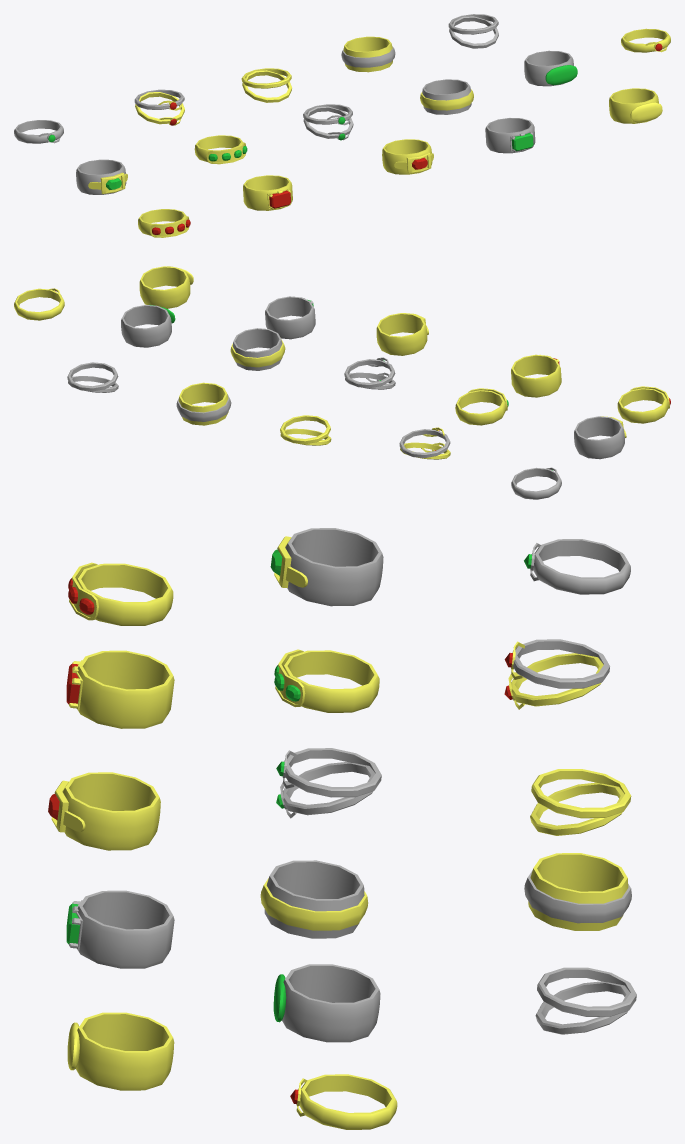
The model's file is Rings_4.fbx.
3 renders of one model, top to bottom at view 1: azimuth 30°, elevation 25°; view 2: azimuth 150°, elevation 25°; view 3: azimuth 270°, elevation 25°, orthographic. The views are drawn at different scales.
Visible parts, largest first — view 1: SM_Ring_1_1, SM_Ring_14_1, SM_Ring_9_1, SM_Ring_5_1, SM_Ring_4_1, SM_Ring_13_1, SM_Ring_2_1, SM_Ring_11_1, SM_Ring_6_1, SM_Ring_15_1, SM_Ring_8_1, SM_Ring_17_1 (+4 smaller); view 2: SM_Ring_9_1, SM_Ring_4_1, SM_Ring_14_1, SM_Ring_13_1, SM_Ring_5_1, SM_Ring_1_1, SM_Ring_2_1, SM_Ring_11_1, SM_Ring_6_1, SM_Ring_15_1, SM_Ring_8_1, SM_Ring_17_1 (+4 smaller); view 3: SM_Ring_4_1, SM_Ring_13_1, SM_Ring_11_1, SM_Ring_2_1, SM_Ring_1_1, SM_Ring_9_1, SM_Ring_14_1, SM_Ring_5_1, SM_Ring_15_1, SM_Ring_6_1, SM_Ring_17_1, SM_Ring_8_1 (+4 smaller).
Part boxes in pixels (x1,y1,x2,y2): SM_Ring_1_1: [609, 88, 662, 123]; SM_Ring_14_1: [420, 79, 473, 114]; SM_Ring_9_1: [524, 50, 577, 86]; SM_Ring_5_1: [341, 36, 395, 72]; SM_Ring_4_1: [382, 139, 433, 174]; SM_Ring_13_1: [76, 159, 127, 194]; SM_Ring_2_1: [243, 175, 292, 210]; SM_Ring_11_1: [485, 118, 535, 153]; SM_Ring_6_1: [138, 209, 190, 237]; SM_Ring_15_1: [194, 135, 247, 164]; SM_Ring_8_1: [134, 89, 184, 125]; SM_Ring_17_1: [303, 104, 353, 140]; SM_Ring_9_1: [121, 304, 175, 347]; SM_Ring_4_1: [376, 313, 428, 355]; SM_Ring_14_1: [230, 328, 285, 370]; SM_Ring_13_1: [574, 416, 626, 459]; SM_Ring_5_1: [176, 382, 231, 425]; SM_Ring_1_1: [139, 266, 193, 308]; SM_Ring_2_1: [511, 354, 561, 397]; SM_Ring_11_1: [265, 296, 315, 339]; SM_Ring_6_1: [617, 386, 670, 423]; SM_Ring_15_1: [455, 388, 508, 425]; SM_Ring_8_1: [399, 427, 450, 459]; SM_Ring_17_1: [344, 357, 395, 389]; SM_Ring_4_1: [48, 772, 160, 850]; SM_Ring_13_1: [270, 528, 383, 606]; SM_Ring_11_1: [66, 890, 174, 968]; SM_Ring_2_1: [66, 650, 174, 728]; SM_Ring_1_1: [67, 1012, 174, 1090]; SM_Ring_9_1: [273, 964, 380, 1042]; SM_Ring_14_1: [260, 860, 368, 938]; SM_Ring_5_1: [524, 853, 631, 930]; SM_Ring_15_1: [274, 649, 379, 712]; SM_Ring_6_1: [68, 562, 173, 625]; SM_Ring_17_1: [276, 748, 381, 818]; SM_Ring_8_1: [504, 639, 609, 709].
Size of the model in its own units: 27.33 by 1.56 by 11.77.
